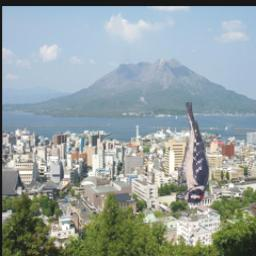Woodpecker: (175, 102, 210, 205)
